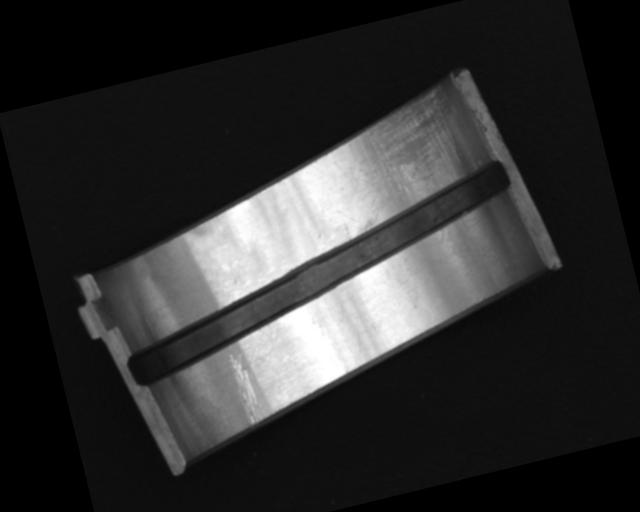gap: (101, 158, 535, 389)
nick: (226, 349, 265, 430)
scratch: (330, 83, 478, 233)
